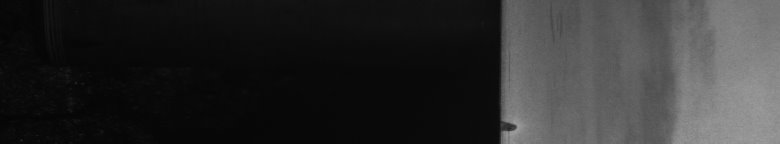hb: (512, 119, 521, 135)
